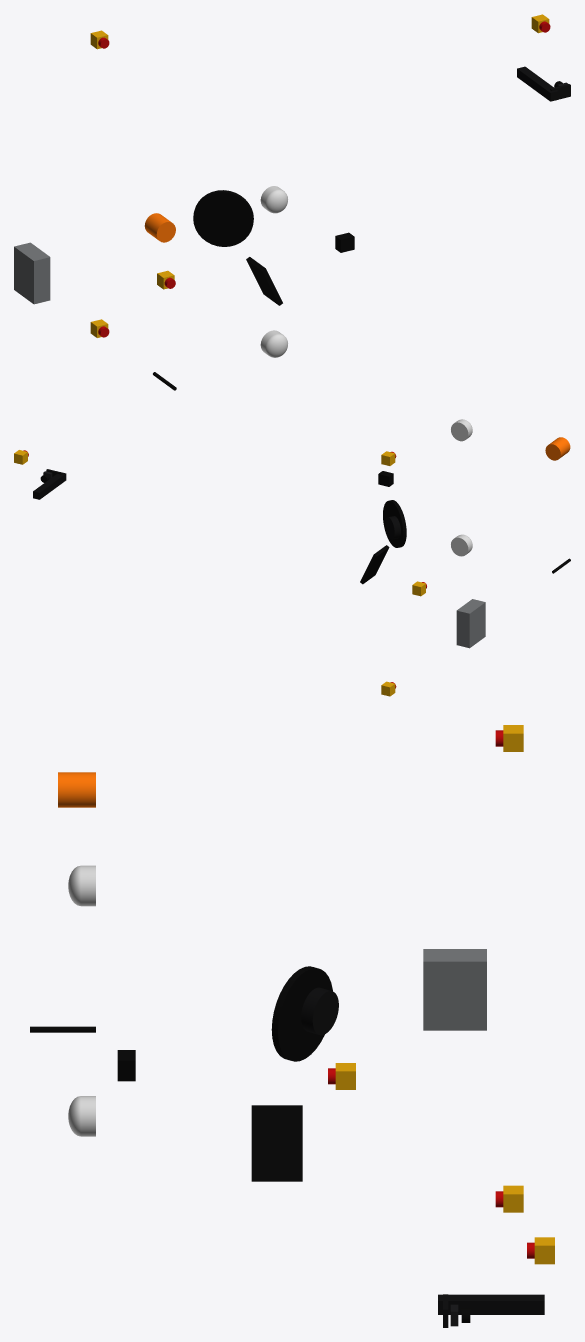
File: kit.obj
The picture shows the model from 3 angles, top to bottom: view 1: azimuth 30°, elevation 25°; view 2: azimuth 150°, elevation 25°; view 3: azimuth 270°, elevation 25°; orthographic projection. The views are drawn at different scales.
Visible parts, largest first — view 1: mf_5710_kit; view 2: mf_5710_kit; view 3: mf_5710_kit.
Boxes of the visible parts, bbox=[...] form: mf_5710_kit: bbox=[14, 14, 570, 390]; mf_5710_kit: bbox=[14, 419, 570, 696]; mf_5710_kit: bbox=[30, 725, 554, 1327].
Size of the model in its own units: 3.99 by 2.08 by 2.07.
